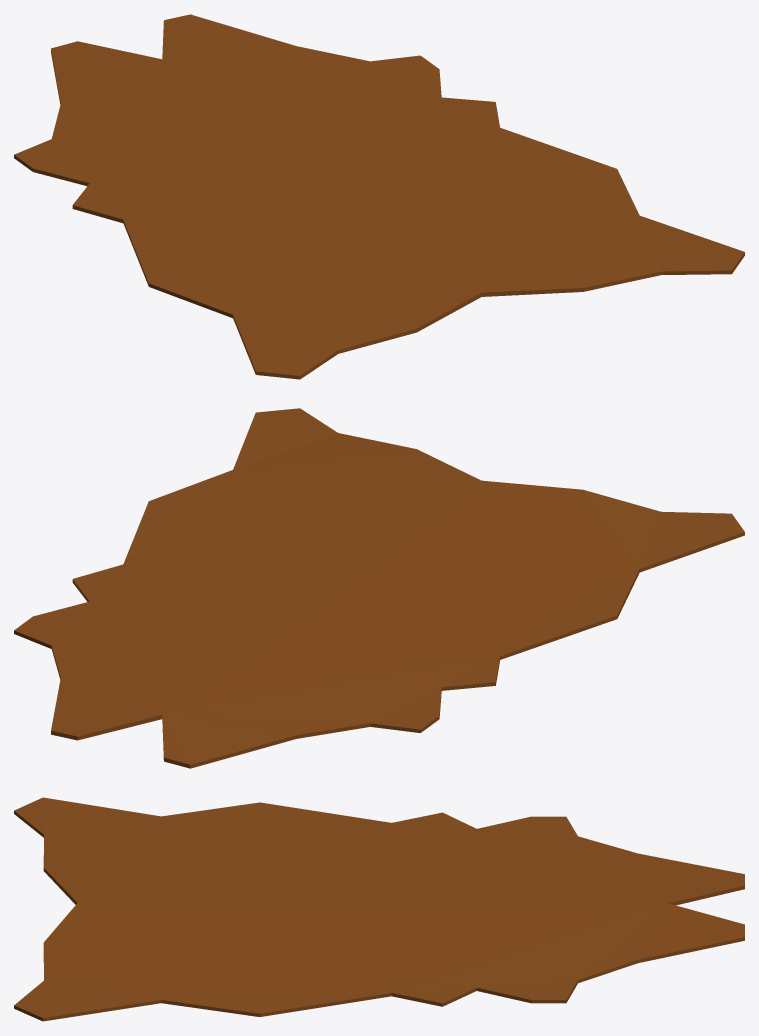
The model's file is pelt.fbx.
3 views of the same model, one above another, from view 1: azimuth 30°, elevation 25°; view 2: azimuth 150°, elevation 25°; view 3: azimuth 270°, elevation 25° (orthographic). The views are drawn at different scales.
Parts seen in each view (by area): view 1: Hide_animal_Cube; view 2: Hide_animal_Cube; view 3: Hide_animal_Cube.
Part boxes in pixels (x1,y1,x2,y2): Hide_animal_Cube: [14, 14, 744, 379]; Hide_animal_Cube: [14, 408, 744, 768]; Hide_animal_Cube: [14, 797, 744, 1021].
Bounding box in the file's own units: 147 × 2.74 × 206.
